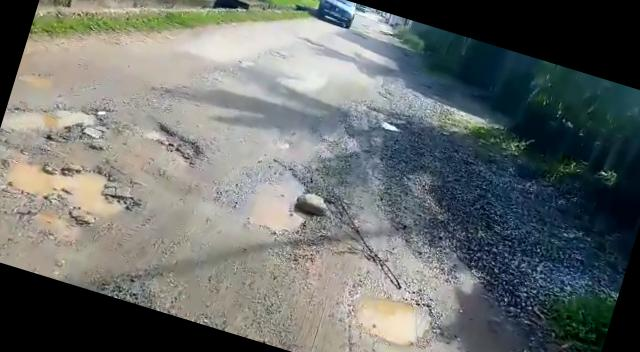pothole: (0, 141, 143, 227), (0, 79, 116, 165), (220, 148, 323, 240), (340, 279, 440, 352), (130, 114, 208, 166)
